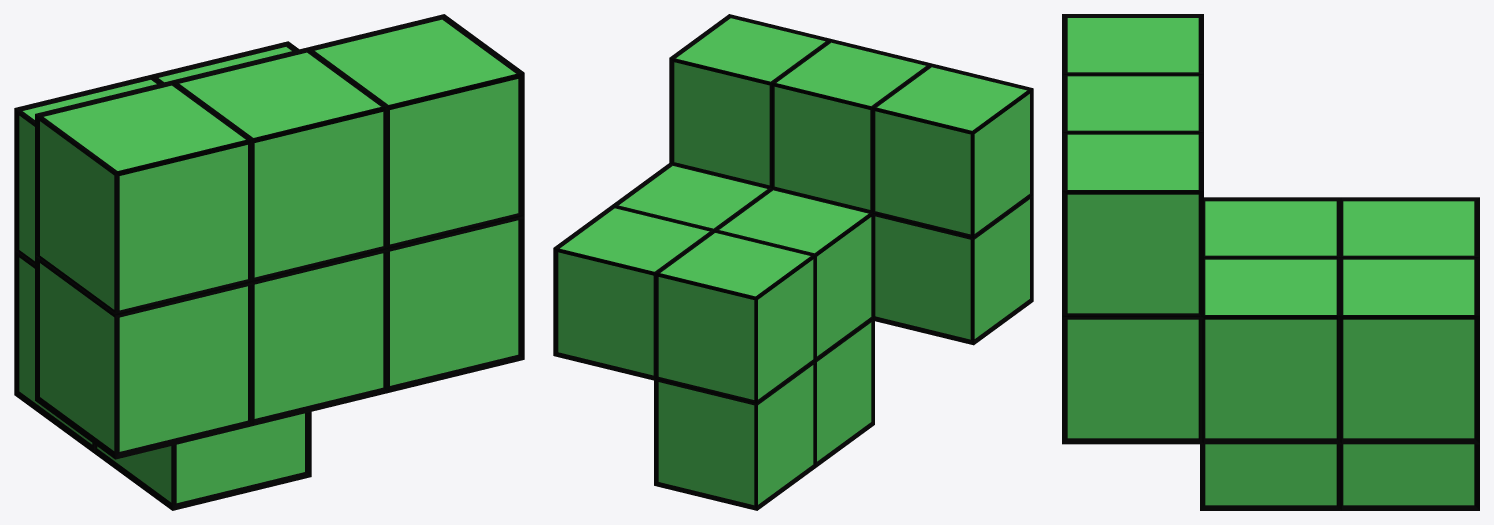
3 views of the same model, side by side, from view 1: azimuth 30°, elevation 25°; view 2: azimuth 150°, elevation 25°; view 3: azimuth 270°, elevation 25° (orthographic). The views are drawn at different scales.
Parts seen in each view (by area): view 1: c2:Mesh; view 2: c2:Mesh; view 3: c2:Mesh.
Boxes of the visible parts, <box> form: c2:Mesh: <box>14,14,524,510</box>; c2:Mesh: <box>553,14,1033,510</box>; c2:Mesh: <box>1062,14,1479,510</box>.
Bounding box in the file's own units: 6.06 × 6.06 × 6.06.
